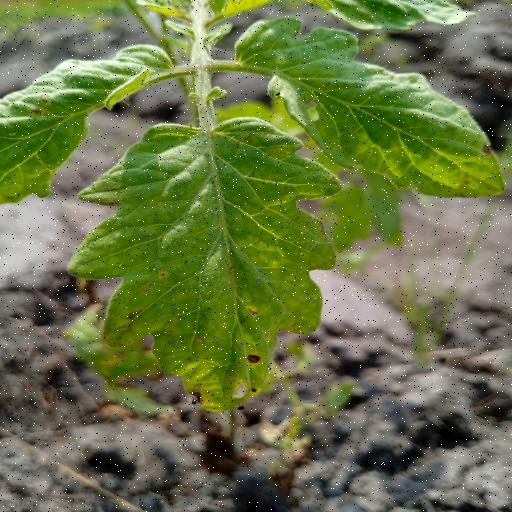Tomato_Brown_Spots: (66, 112, 345, 415), (227, 11, 512, 201), (0, 42, 172, 207)
